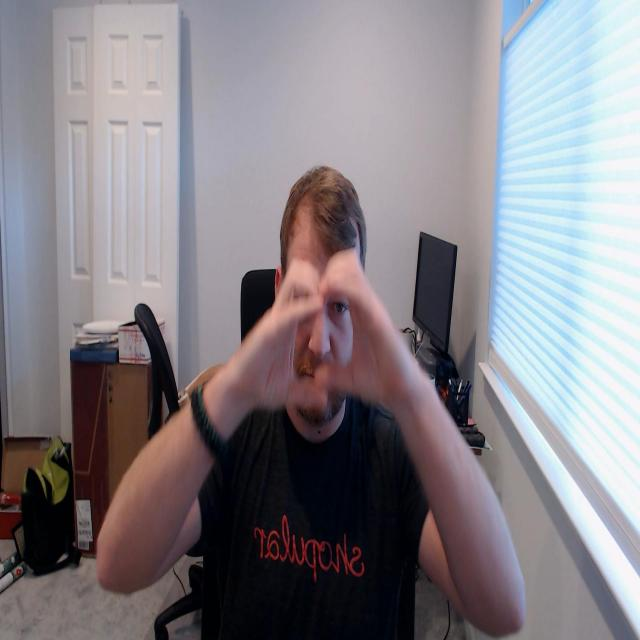face: (284, 237, 363, 427)
